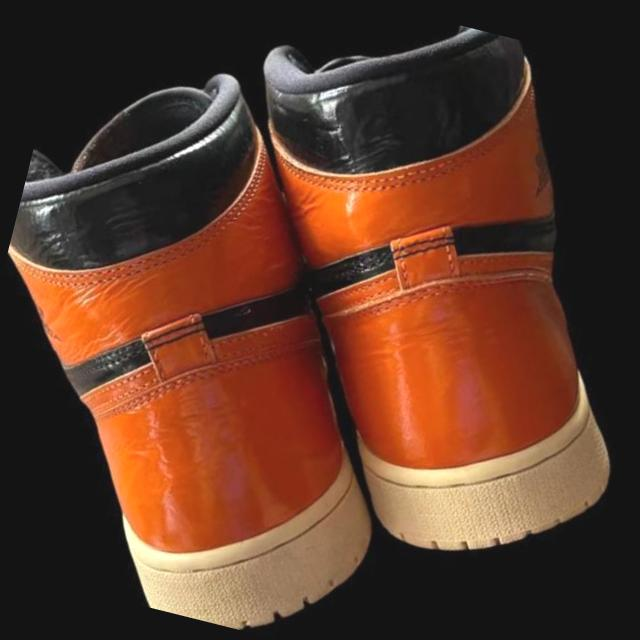nike_original_jordan: (108, 0, 640, 629), (0, 13, 522, 640)
